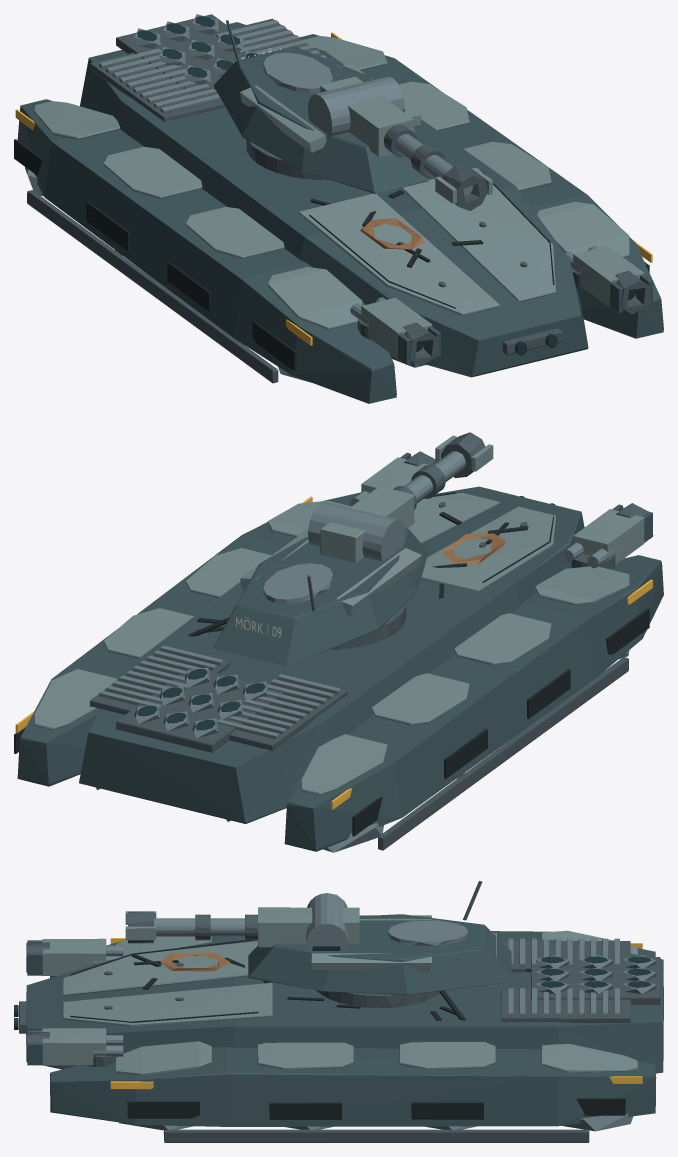
File: mork_hover_tank_low_d2.glb
The picture shows the model from 3 angles, top to bottom: view 1: azimuth 30°, elevation 25°; view 2: azimuth 150°, elevation 25°; view 3: azimuth 270°, elevation 25°; orthographic projection. The views are drawn at different scales.
Visible parts, largest first — view 1: Low armored main hull.002, Armored hover nacelle.004, Swept glacis armor.004, Tapered nacelle shield.016, Lean turret wedge.002, Tapered nacelle shield.020, Armored hover nacelle.005, Engine heat exchanger.004, Engine cooling louver.040, Ground contact skid.008, Lift vent recess.016, Armored cannon breech.002 (+13 smaller); view 2: Low armored main hull.002, Armored hover nacelle.004, Lean turret wedge.002, Tapered nacelle shield.016, Tapered nacelle shield.020, Armored hover nacelle.005, Swept glacis armor.004, Engine cooling louver.040, Engine heat exchanger.004, Ground contact skid.008, Armored cannon breech.002, Lift vent recess.016 (+12 smaller); view 3: Armored hover nacelle.005, Low armored main hull.002, Lean turret wedge.002, Swept glacis armor.004, Tapered nacelle shield.020, Engine heat exchanger.004, Ground contact skid.010, Lift vent recess.020, Engine cooling louver.040, Armored cannon breech.002, Low plasma projector.005, Gun trunnion.002 (+16 smaller).
Part boxes in pixels (box(x1,y1,x2,y2)): Low armored main hull.002: box(80, 22, 588, 377); Armored hover nacelle.004: box(17, 99, 396, 403); Swept glacis armor.004: box(299, 168, 555, 315); Tapered nacelle shield.016: box(34, 101, 362, 329); Lean turret wedge.002: box(213, 46, 428, 193); Tapered nacelle shield.020: box(303, 36, 629, 257); Armored hover nacelle.005: box(299, 34, 663, 338); Engine heat exchanger.004: box(89, 14, 562, 355); Engine cooling louver.040: box(99, 20, 331, 113); Ground contact skid.008: box(27, 190, 278, 383); Lift vent recess.016: box(14, 139, 296, 371); Armored cannon breech.002: box(320, 76, 493, 203); Low armored main hull.002: box(79, 486, 584, 823); Armored hover nacelle.004: box(284, 555, 663, 851); Lean turret wedge.002: box(213, 528, 428, 666); Tapered nacelle shield.016: box(301, 566, 629, 795); Tapered nacelle shield.020: box(34, 500, 350, 729); Armored hover nacelle.005: box(17, 492, 360, 786); Swept glacis armor.004: box(408, 493, 556, 592); Engine cooling louver.040: box(99, 645, 340, 739); Engine heat exchanger.004: box(89, 502, 527, 752); Ground contact skid.008: box(378, 657, 628, 850); Armored cannon breech.002: box(320, 435, 493, 562); Lift vent recess.016: box(352, 608, 649, 836); Armored hover nacelle.005: box(50, 1047, 656, 1126); Low armored main hull.002: box(26, 937, 663, 1073); Lean turret wedge.002: box(248, 914, 511, 995); Swept glacis armor.004: box(62, 941, 272, 1026); Tapered nacelle shield.020: box(115, 1041, 637, 1075); Engine heat exchanger.004: box(19, 941, 660, 1033); Ground contact skid.010: box(163, 1129, 589, 1142); Lift vent recess.020: box(127, 1098, 625, 1119); Engine cooling louver.040: box(507, 938, 619, 1016); Armored cannon breech.002: box(125, 907, 359, 947); Low plasma projector.005: box(42, 1028, 106, 1065); Gun trunnion.002: box(306, 893, 348, 952).
Size of the model in its own units: 5.82 by 3.01 by 10.47.
